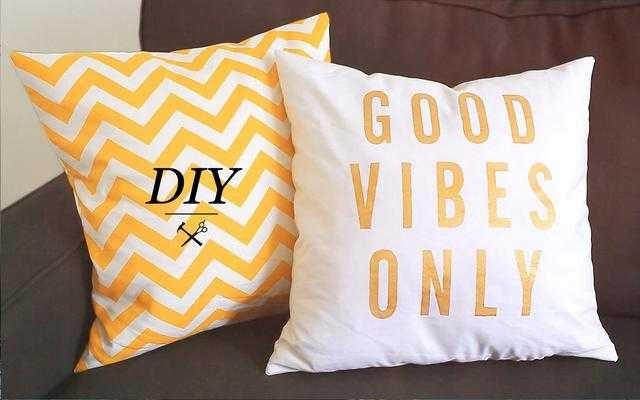pillow: (7, 10, 331, 374), (264, 48, 620, 376)
